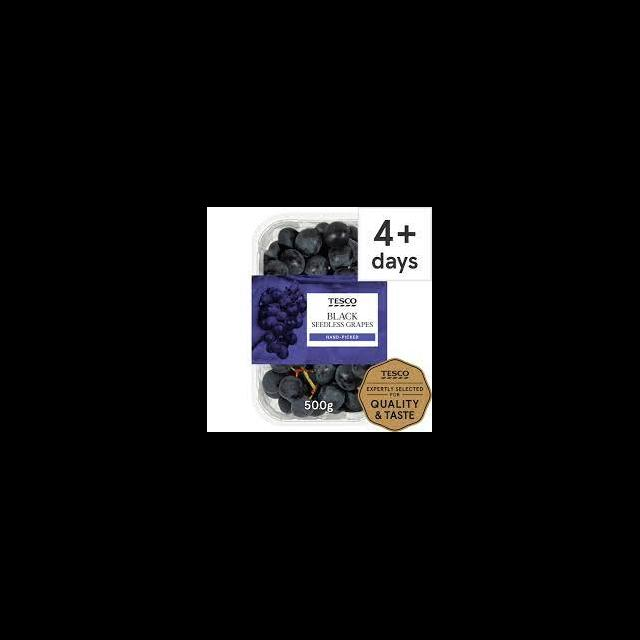grape: (262, 363, 374, 418), (264, 222, 358, 276), (254, 284, 306, 359)
